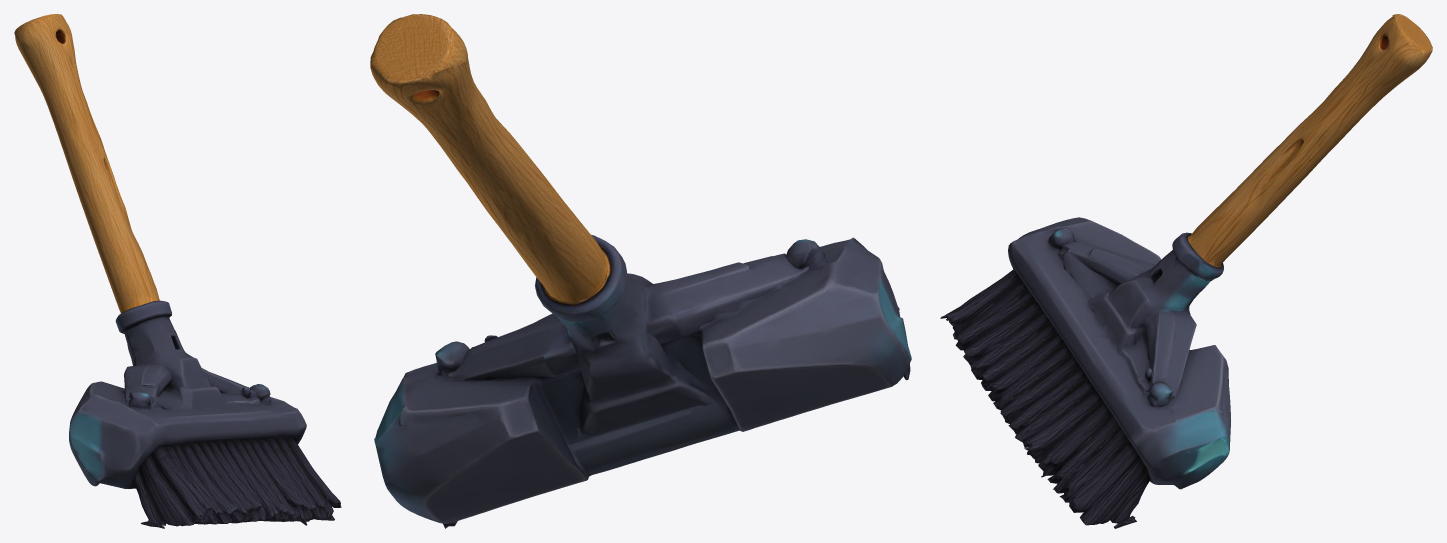
Rendered from street_sweeper.glb.
3 renders of one model, left to right at view 1: azimuth 30°, elevation 25°; view 2: azimuth 150°, elevation 25°; view 3: azimuth 270°, elevation 25°, orthographic. The views are drawn at different scales.
Visible parts, largest first — view 1: tripo_node_da42aa55-c2b7-46a3-9b54-b764a78f11c4; view 2: tripo_node_da42aa55-c2b7-46a3-9b54-b764a78f11c4; view 3: tripo_node_da42aa55-c2b7-46a3-9b54-b764a78f11c4.
Boxes of the visible parts, x1,y1,x2,y2 form: tripo_node_da42aa55-c2b7-46a3-9b54-b764a78f11c4: (14, 14, 341, 528); tripo_node_da42aa55-c2b7-46a3-9b54-b764a78f11c4: (370, 14, 911, 528); tripo_node_da42aa55-c2b7-46a3-9b54-b764a78f11c4: (940, 14, 1432, 528).
Bounding box in the file's own units: 0.6369 × 0.9795 × 0.9756.
Materials: 1 (1 with a texture image).
